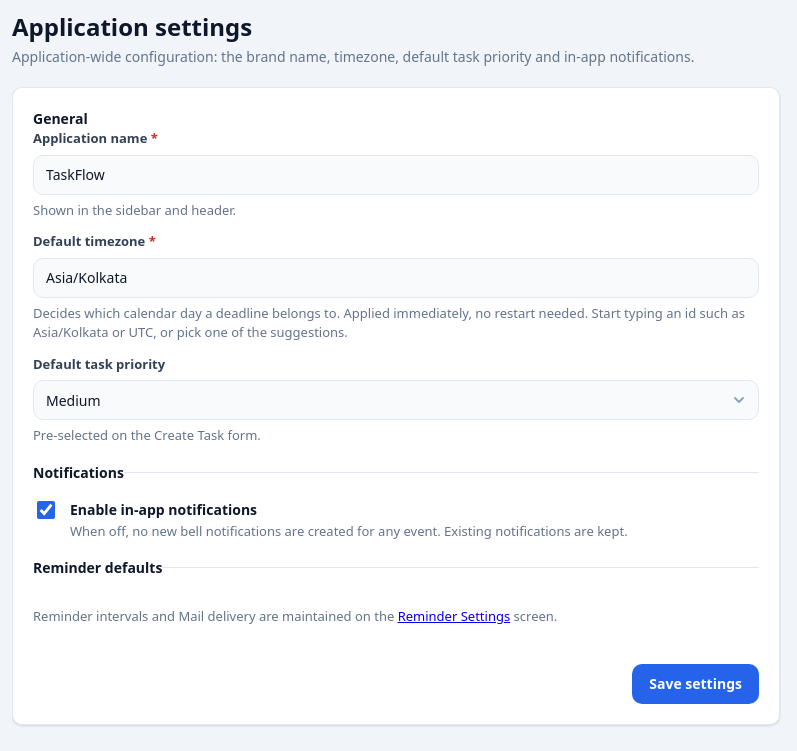
Test: ApplicationSettingsComponent › shows server field errors from a 400 response
What coordinates should you click on to do the following:
click the button "Save settings"
I would click on:
 (696, 684)
Its box is [632, 664, 759, 704].
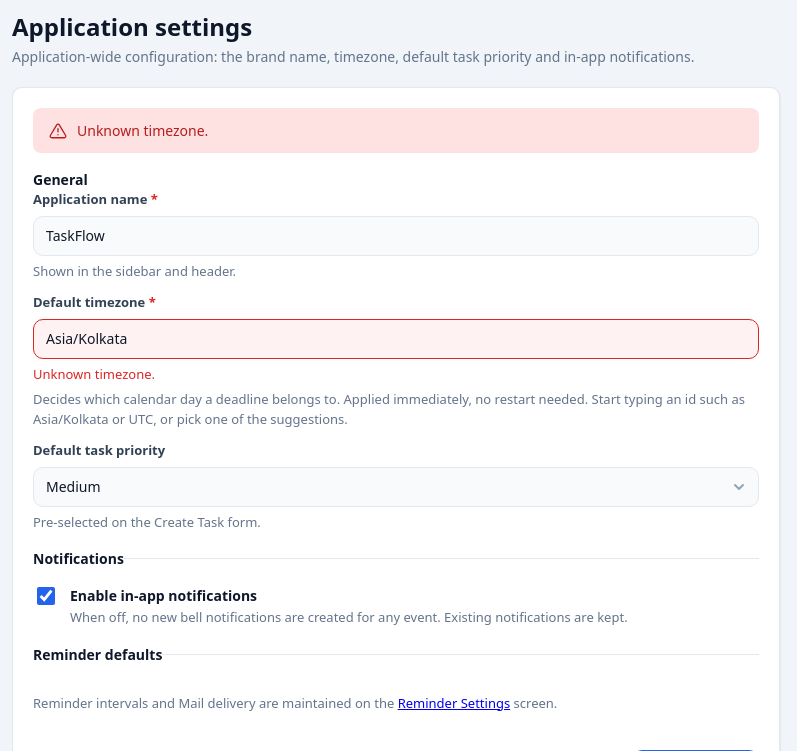
Check: the 1st text "Unknown timezone." is shown, box [77, 120, 208, 141]
